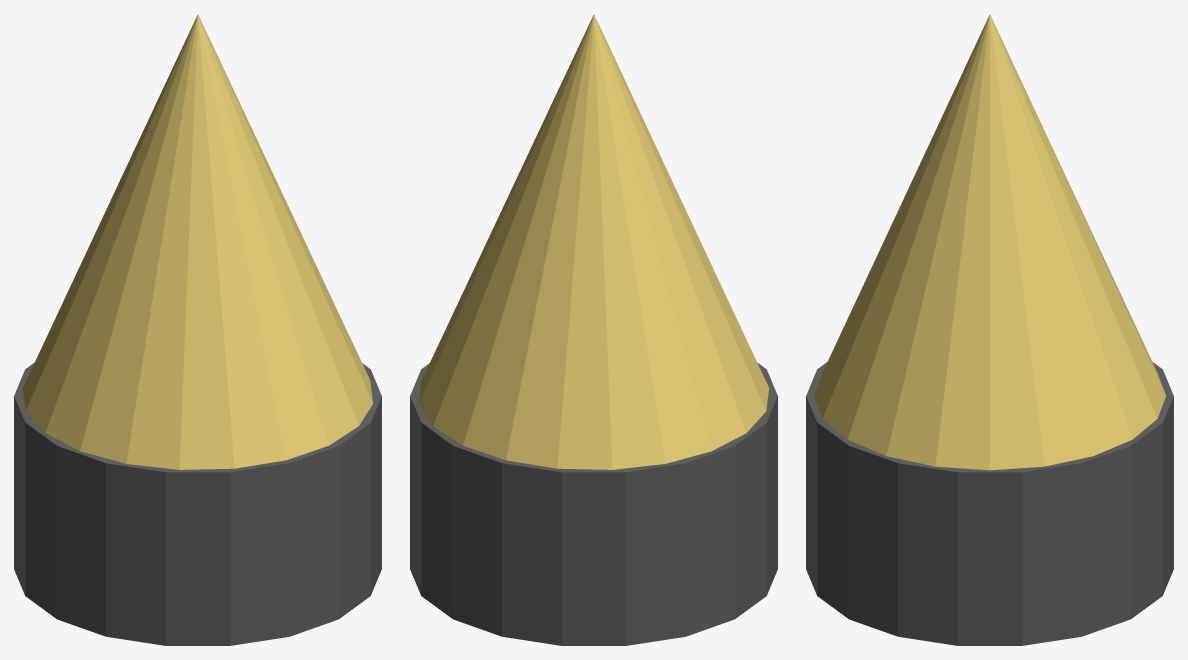
Rendered from tee_marker_gold.glb.
3 views of the same model, side by side, from view 1: azimuth 30°, elevation 25°; view 2: azimuth 150°, elevation 25°; view 3: azimuth 270°, elevation 25° (orthographic).
Visible parts, largest first — view 1: TeeMarkerGold; view 2: TeeMarkerGold; view 3: TeeMarkerGold.
Part boxes in pixels (x1=…): TeeMarkerGold: x1=14, y1=14, x2=381, y2=645; TeeMarkerGold: x1=410, y1=14, x2=777, y2=645; TeeMarkerGold: x1=806, y1=14, x2=1173, y2=645.
Size of the model in its own units: 0.0945 by 0.16 by 0.096.
